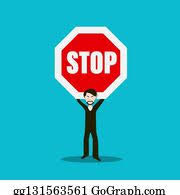SS: (52, 25, 130, 100)
